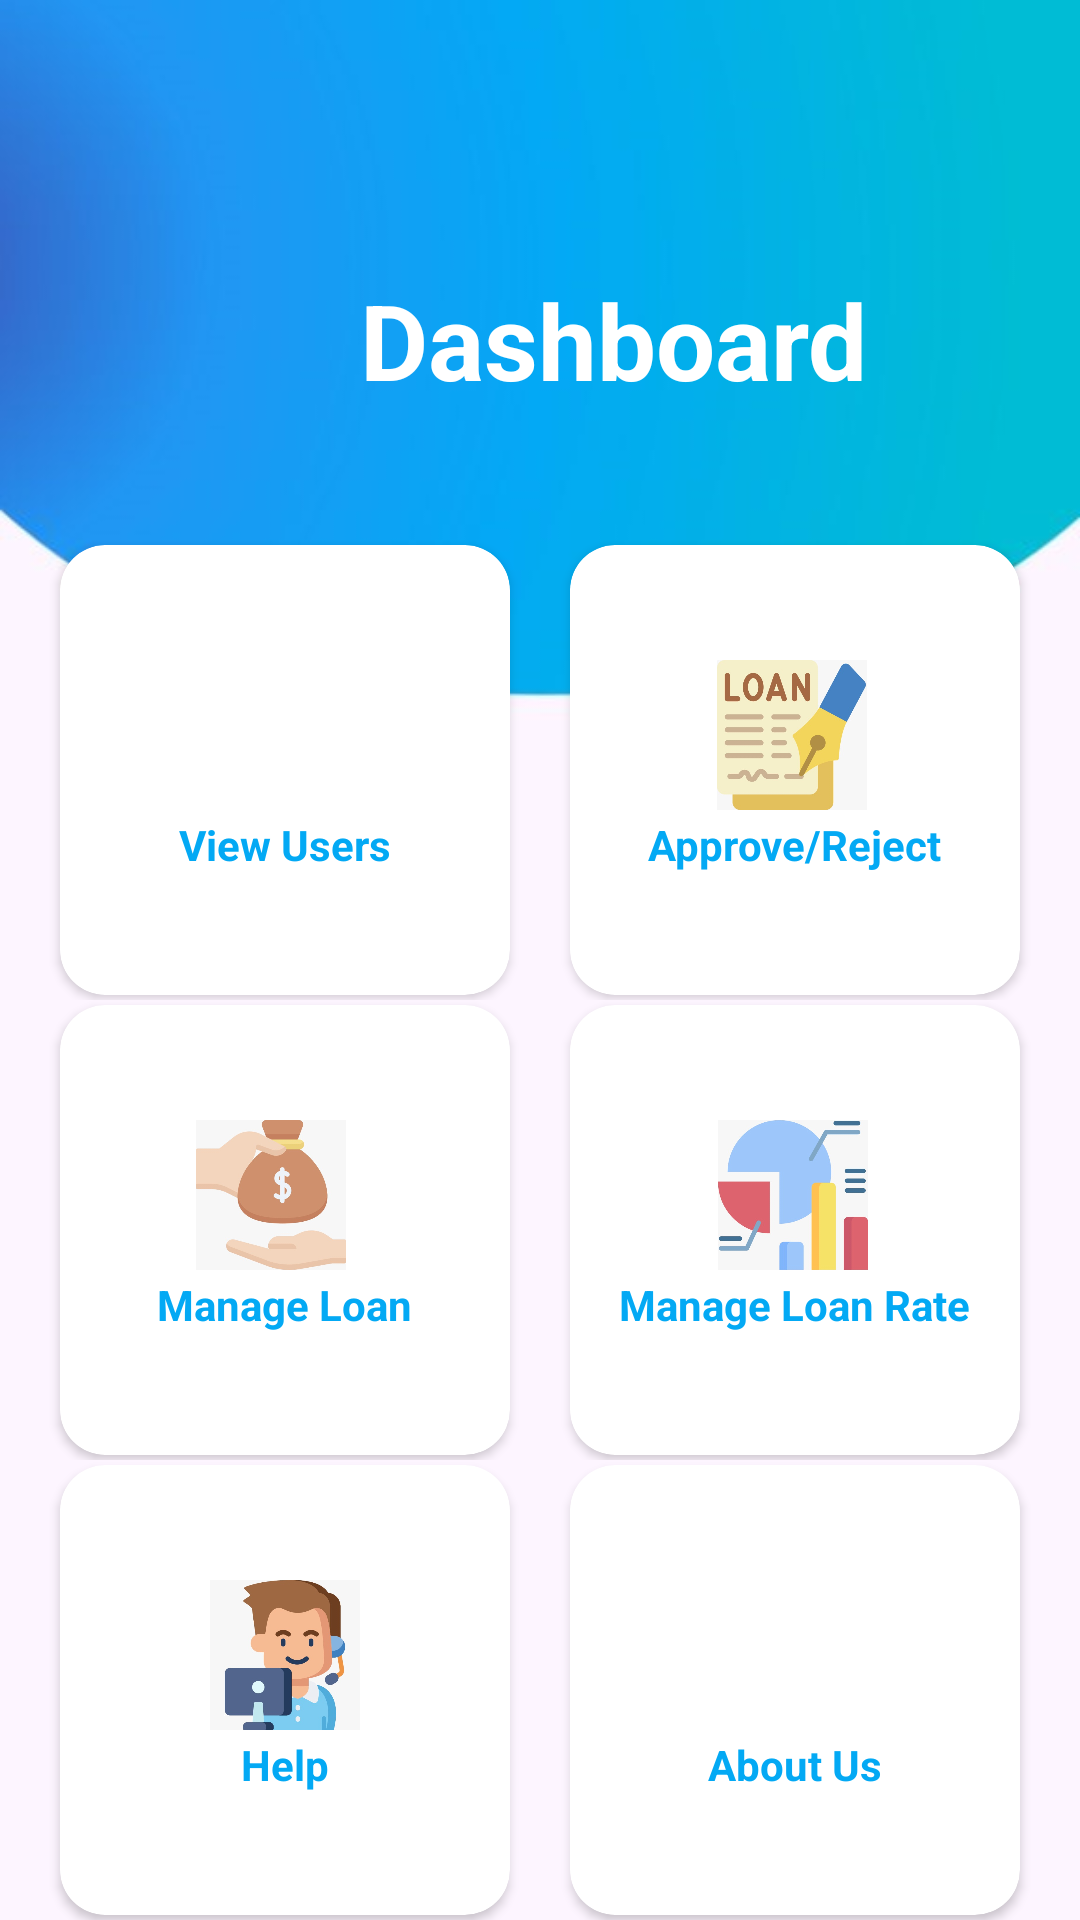

Icon bounding boxes for this 1080 x 1920 phone screenshot, format bbox=(x1, y1, x2, y2):
loandashicon: bbox=(717, 660, 866, 810)
loanrepicon: bbox=(718, 1120, 868, 1270)
loantypeicon: bbox=(196, 1120, 346, 1270)
